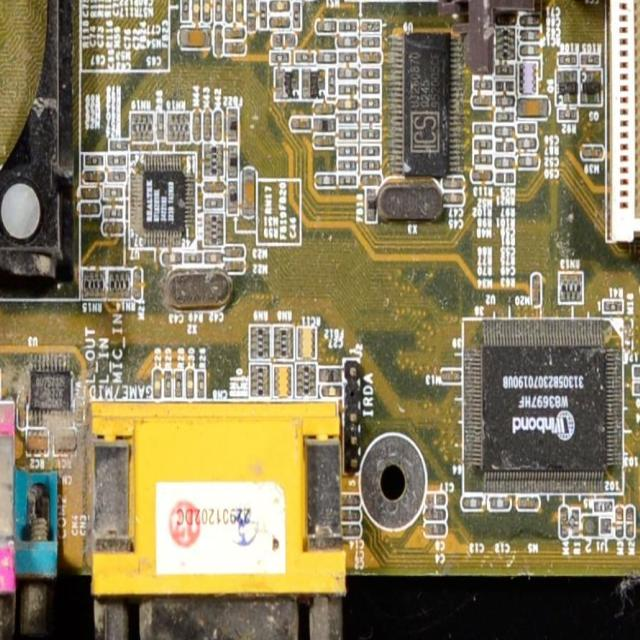IC: (475, 339, 621, 483), (389, 31, 462, 175), (242, 168, 254, 215)
capacitor: (140, 170, 191, 228), (178, 27, 210, 48), (517, 97, 549, 117), (423, 507, 447, 522), (424, 524, 447, 539), (488, 495, 511, 509), (314, 102, 334, 118), (322, 383, 342, 399), (460, 498, 486, 510), (152, 369, 162, 399), (225, 42, 247, 54), (517, 496, 539, 508), (362, 51, 382, 64), (572, 508, 580, 540), (201, 0, 211, 24), (291, 117, 311, 129), (186, 369, 194, 399), (560, 509, 568, 539), (424, 492, 442, 505), (594, 504, 615, 514), (625, 511, 633, 537), (228, 27, 245, 38), (616, 508, 622, 536), (192, 0, 198, 26)
connector: (607, 0, 640, 241)
resistor: (520, 153, 540, 172), (339, 66, 361, 81), (319, 368, 343, 381), (317, 18, 336, 34), (103, 222, 123, 237), (359, 143, 382, 156), (557, 110, 578, 124), (360, 112, 381, 126), (84, 155, 105, 169), (84, 170, 105, 184), (104, 187, 125, 201), (519, 30, 543, 42), (338, 35, 360, 48), (106, 171, 128, 184), (361, 96, 380, 111), (472, 122, 492, 136), (338, 142, 358, 156), (133, 267, 141, 302), (273, 34, 294, 47), (337, 99, 358, 112), (360, 129, 381, 142), (494, 170, 515, 183), (163, 370, 172, 400), (362, 66, 381, 80), (519, 46, 541, 58), (104, 207, 124, 220), (214, 25, 222, 57), (214, 108, 222, 140), (202, 110, 210, 142), (193, 111, 201, 143), (337, 51, 358, 63), (494, 140, 515, 152), (81, 189, 102, 201), (342, 509, 360, 523), (295, 52, 314, 65), (81, 204, 100, 217), (340, 494, 359, 507), (197, 371, 206, 398), (293, 0, 301, 30), (338, 18, 358, 30), (338, 83, 358, 95), (338, 115, 358, 127), (314, 134, 334, 146), (248, 0, 255, 33), (260, 0, 270, 23), (336, 132, 359, 142), (270, 17, 289, 29), (361, 35, 380, 47), (360, 83, 379, 95), (343, 524, 360, 537), (520, 16, 540, 27), (317, 52, 335, 64), (174, 372, 182, 399), (360, 21, 381, 31), (517, 138, 538, 148), (495, 125, 514, 136), (107, 155, 126, 166), (185, 252, 204, 263), (474, 151, 491, 163), (156, 112, 163, 141), (270, 53, 292, 62), (162, 250, 184, 259), (235, 0, 243, 24), (516, 124, 535, 134), (496, 113, 514, 123), (214, 0, 222, 21), (181, 0, 189, 20), (274, 1, 290, 11), (224, 262, 244, 270), (225, 0, 232, 22), (192, 0, 198, 23), (206, 252, 223, 260), (329, 69, 333, 94), (633, 365, 640, 378), (224, 251, 244, 255), (633, 384, 640, 394)
